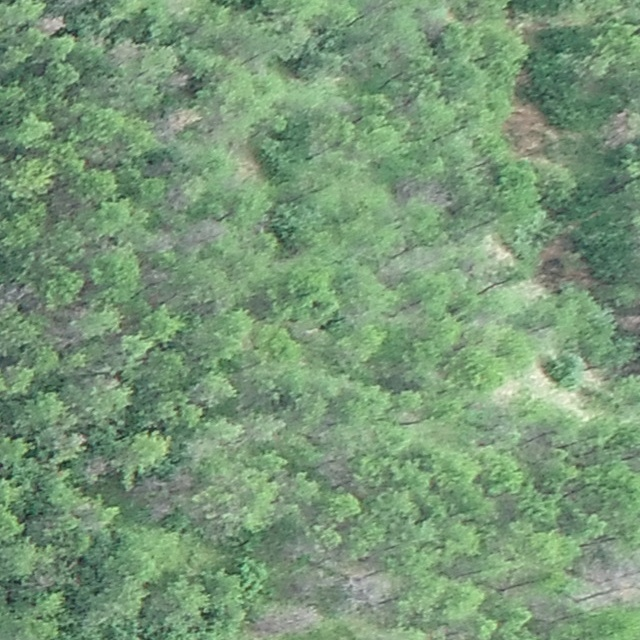unhealthy: (580, 554, 640, 609), (137, 471, 196, 520), (251, 603, 320, 637), (344, 567, 392, 608), (400, 175, 455, 209), (600, 107, 639, 148), (183, 216, 225, 247), (159, 106, 200, 137), (315, 453, 352, 486), (108, 37, 143, 66), (83, 456, 113, 479), (141, 266, 171, 286), (38, 13, 65, 35), (616, 311, 639, 336), (167, 69, 193, 91)
